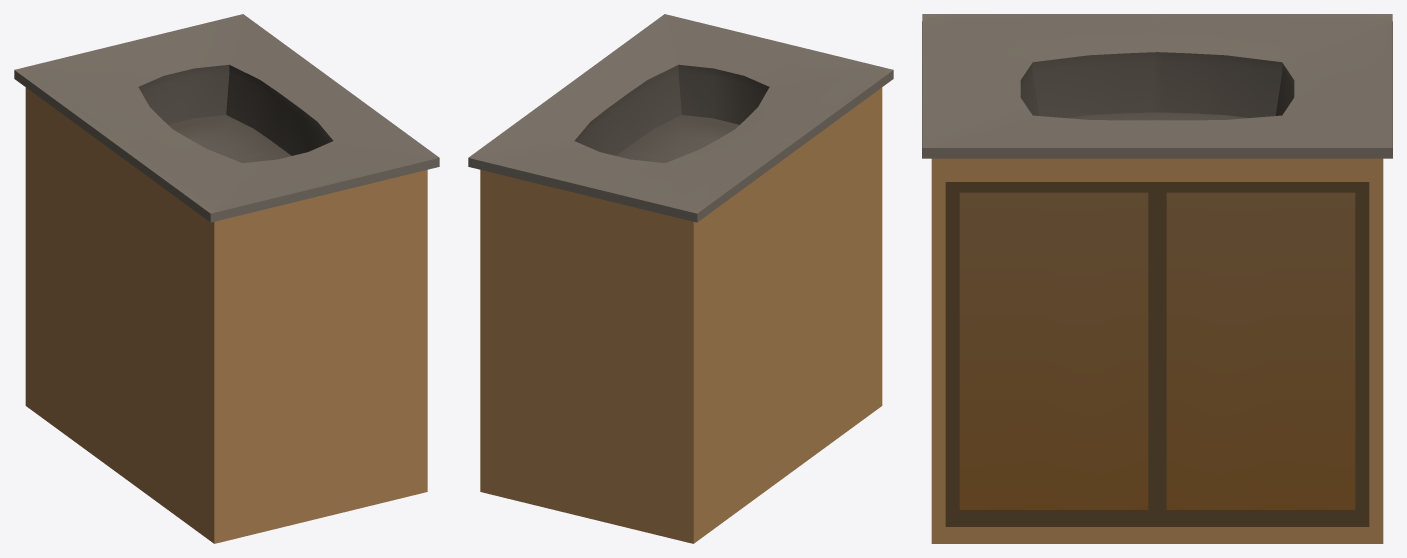
Rendered from BathRoom_01.fbx.
The picture shows the model from 3 angles, left to right: view 1: azimuth 30°, elevation 25°; view 2: azimuth 150°, elevation 25°; view 3: azimuth 270°, elevation 25°; orthographic projection. The views are drawn at different scales.
Parts seen in each view (by area): view 1: Plane.001; view 2: Plane.001; view 3: Plane.001.
Part boxes in pixels (x1=…): Plane.001: x1=14, y1=14, x2=439, y2=543; Plane.001: x1=468, y1=14, x2=893, y2=543; Plane.001: x1=922, y1=14, x2=1392, y2=543.
Size of the model in its own units: 281 by 393 by 418.
